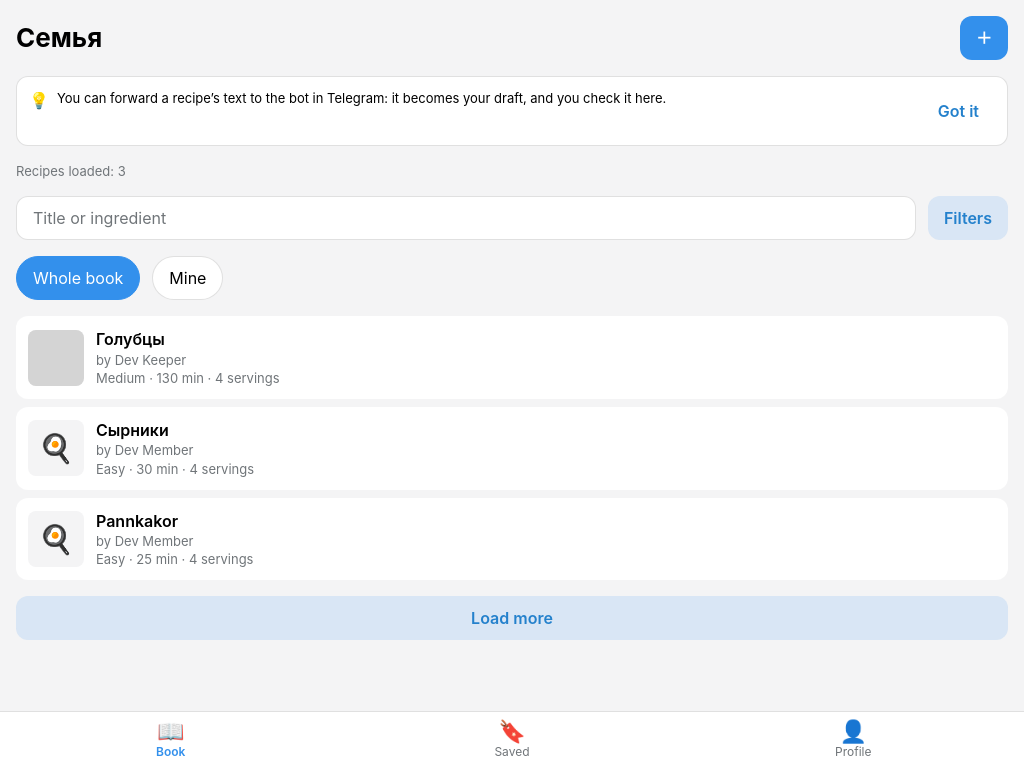
Test: book list: pages of 50, search and filters on the server (BE-11) › loads the next page on "Load more", for the same search and filters
Expected: the text "Recipes loaded: 3" is shown, [16, 163, 126, 179]
Step 1. Click the button "Filters" → point(968, 218), box [928, 196, 1008, 240]
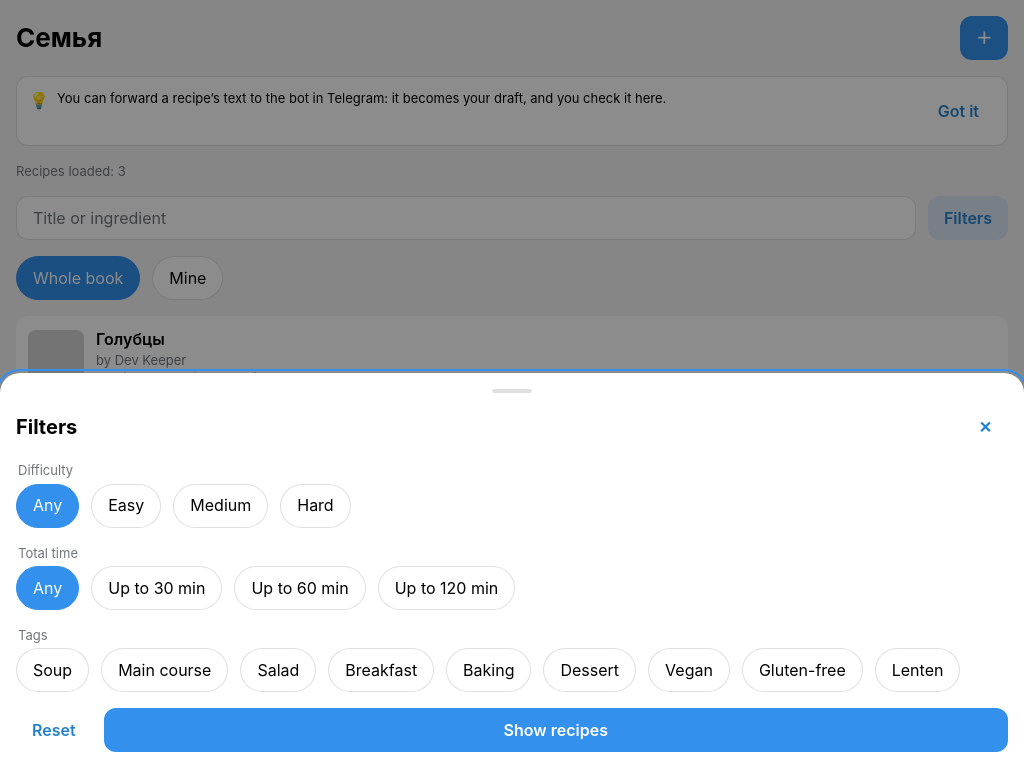
Step 2. Click the button "Soup" → point(53, 670), box [16, 648, 89, 692]
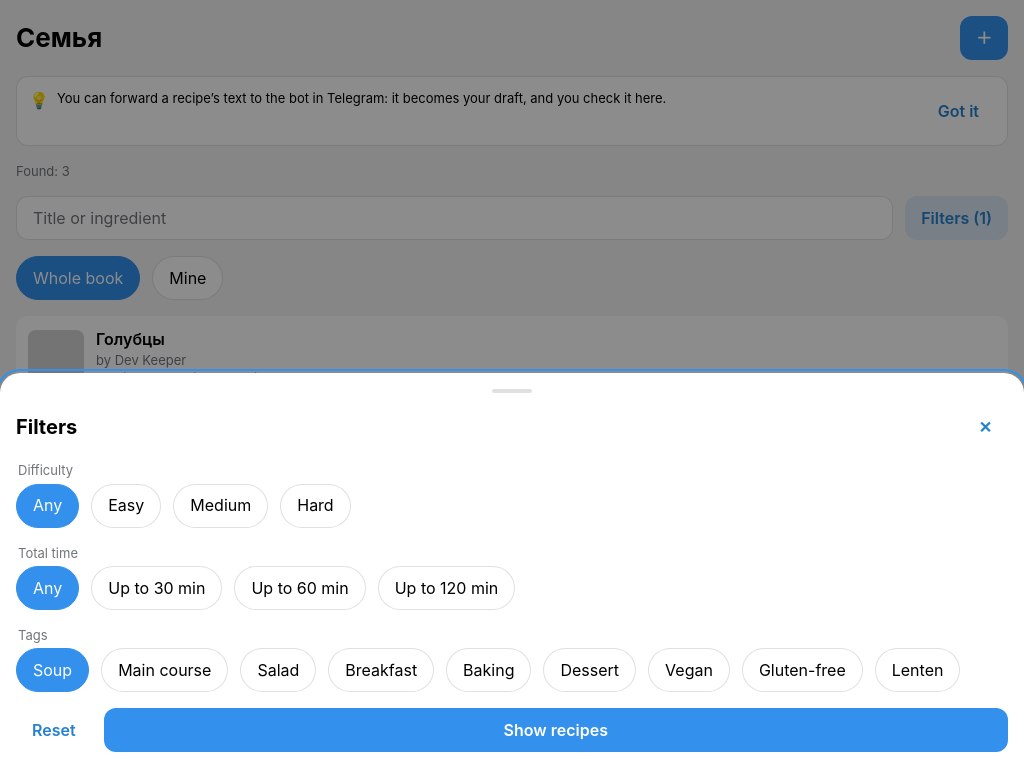
Step 3. Click the button "Up to 60 min" → point(300, 588), box [234, 566, 366, 610]
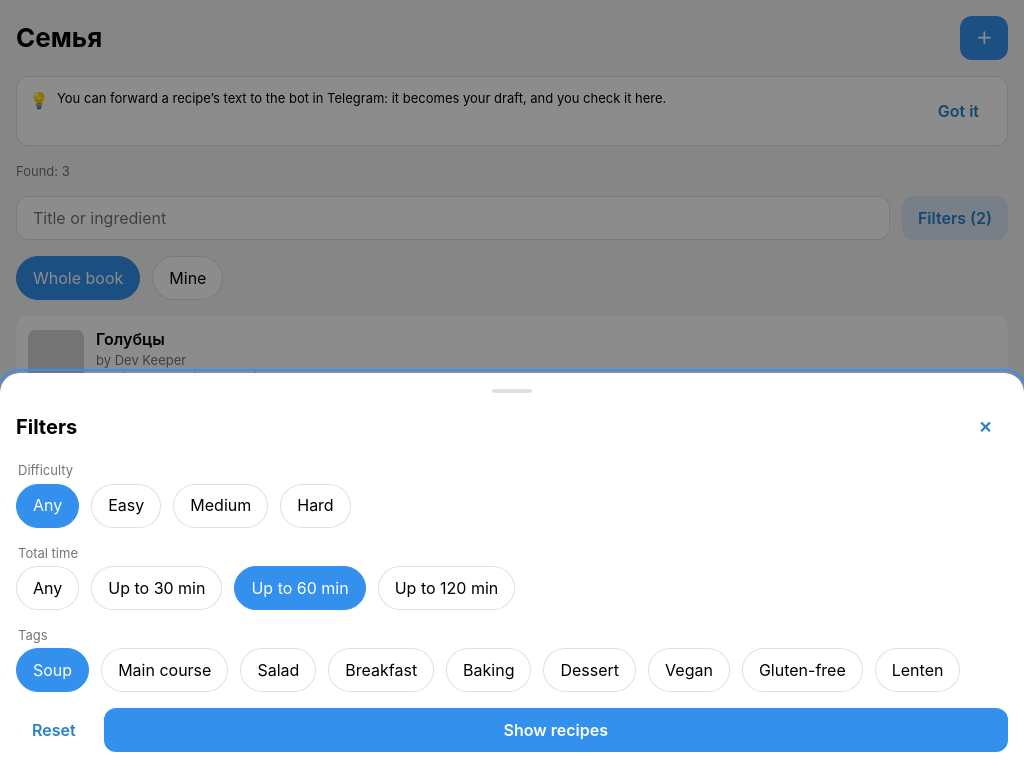
Step 4. Click the button "Show recipes" → point(556, 730), box [104, 708, 1008, 752]
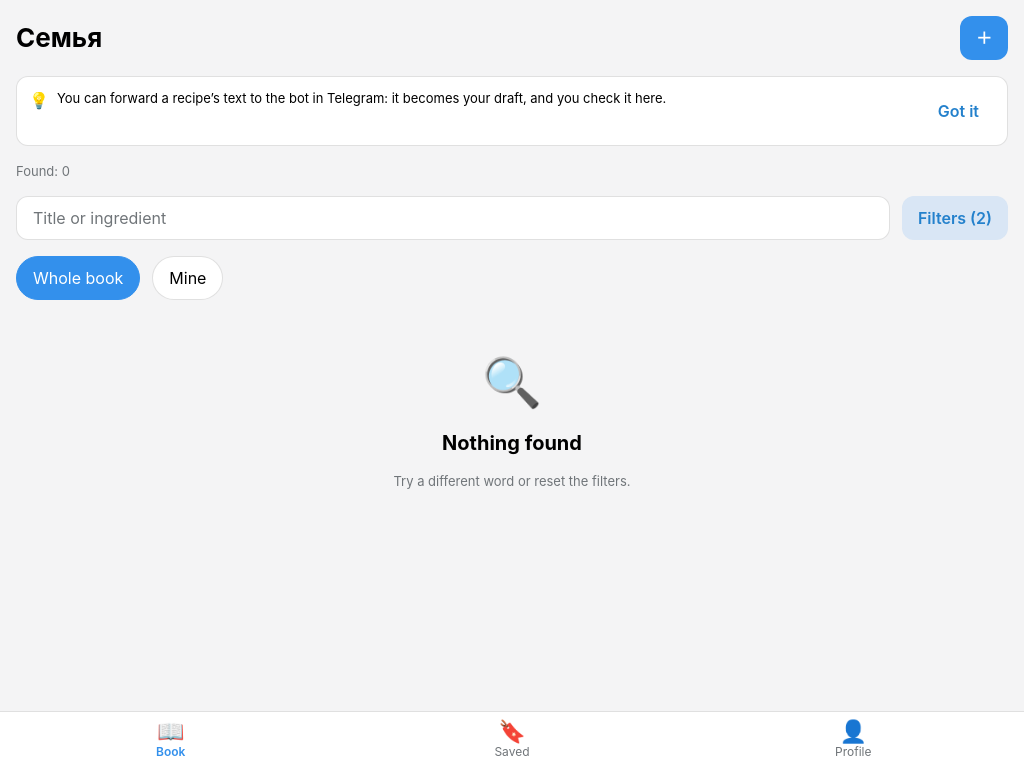
Now the heading "Nothing found" is shown, box [442, 431, 582, 456]
Step 5. Type "борщ" into the search field → point(453, 218), box [16, 196, 890, 240]
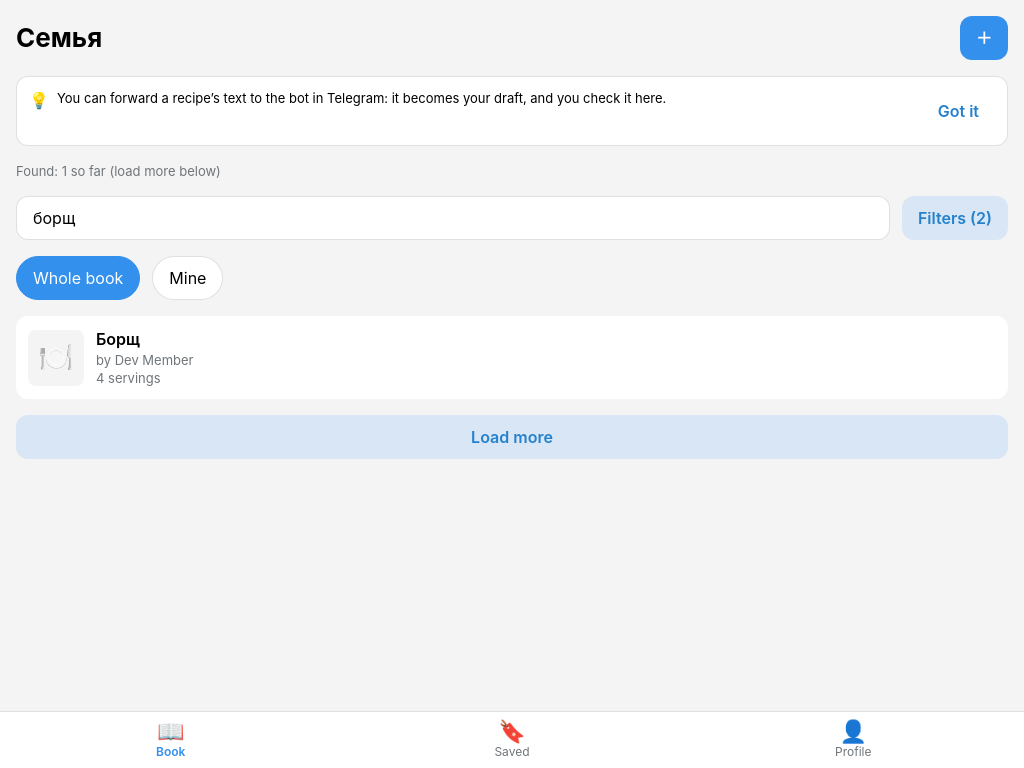
Now the text "Борщ" is shown, box [96, 329, 140, 349]
Now the text "Found: 1 so far (load more below)" is shown, box [16, 163, 221, 179]
Step 6. Click the button "Load more" → point(512, 437), box [16, 415, 1008, 459]
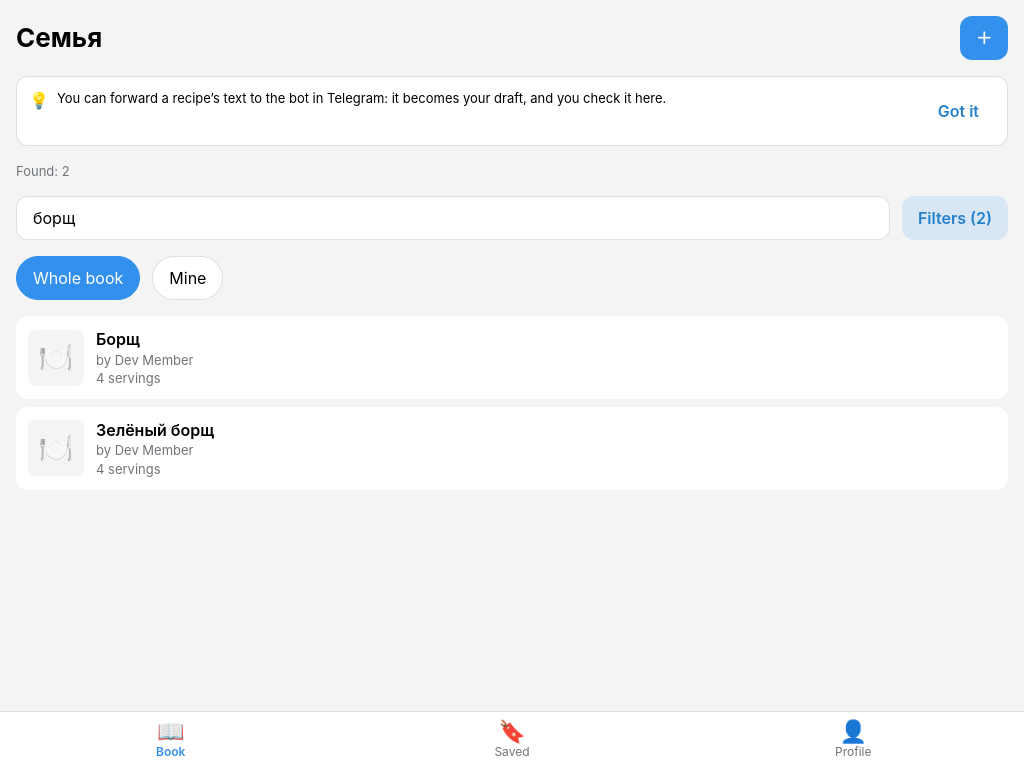
Now the text "Зелёный борщ" is shown, box [96, 420, 214, 440]
Now the text "Found: 2" is shown, box [16, 163, 70, 179]
Now the text "load more" is gone
